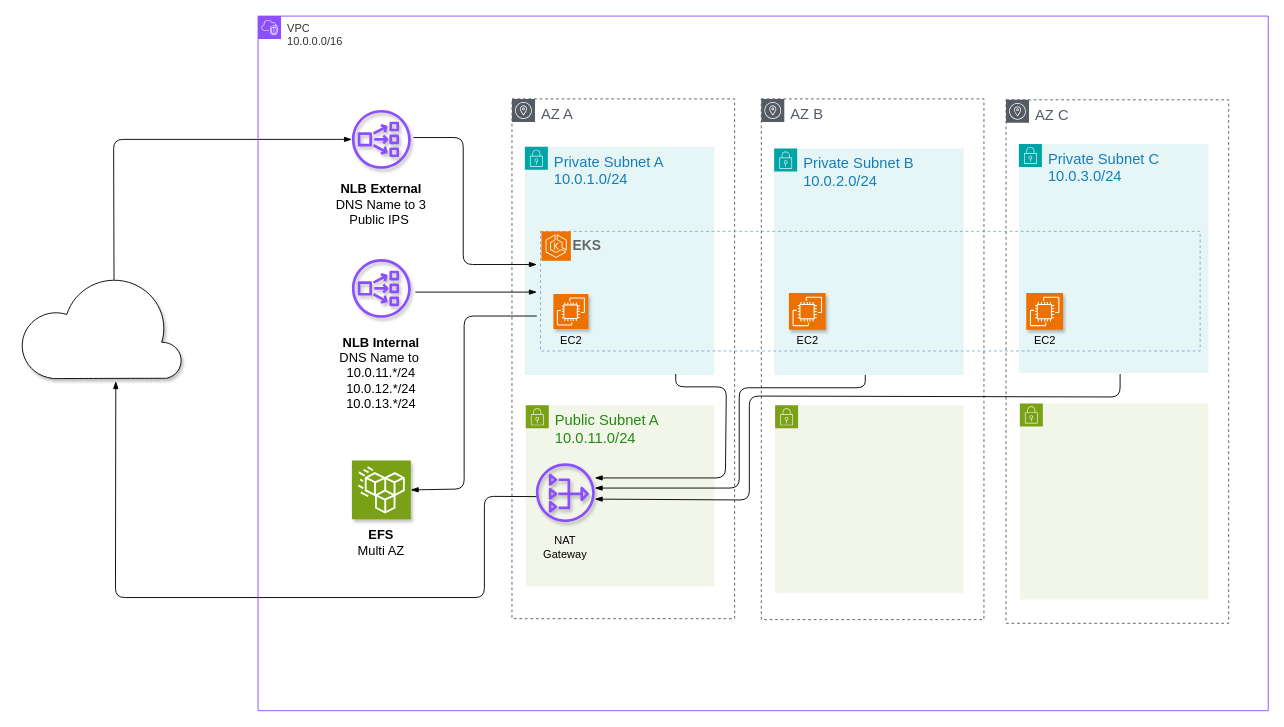
Some shapes in this 1284 by 727 pixel diagram are drawn without their labels. The shapes that lost their labels are listed below. From the top down, each one's centre as x and y in pixels, then its label:
point (101, 327): Internet
point (869, 498): Public Subnet B 10.0.12.0/24
point (1113, 500): Public Subnet C 10.0.13.0/24
